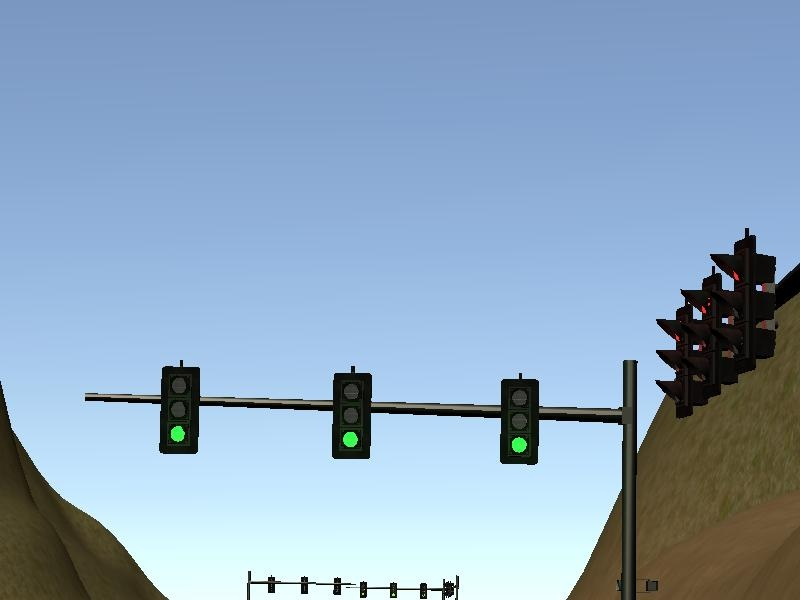green: (153, 361, 205, 459), (496, 371, 539, 468), (329, 369, 375, 458)
